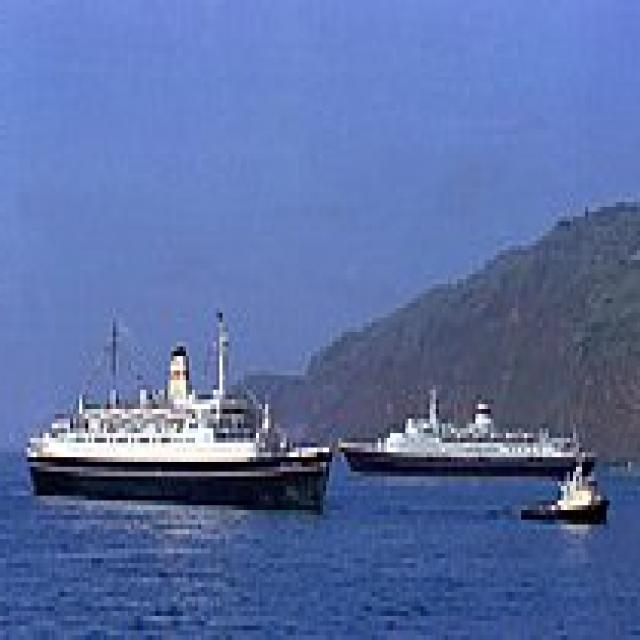Cruise: (28, 303, 342, 510), (336, 381, 604, 476)
